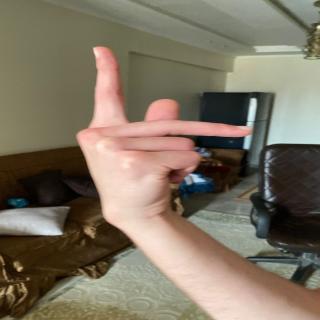DHAA: (61, 37, 260, 201)
